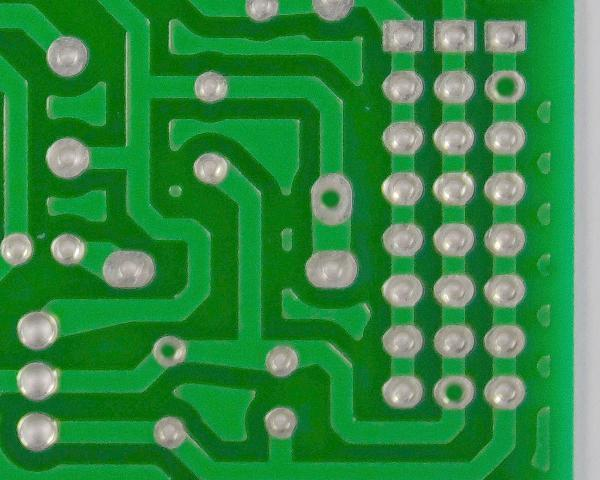missing hole: (304, 169, 360, 230), (428, 371, 479, 414), (481, 68, 534, 105), (148, 332, 191, 370)
